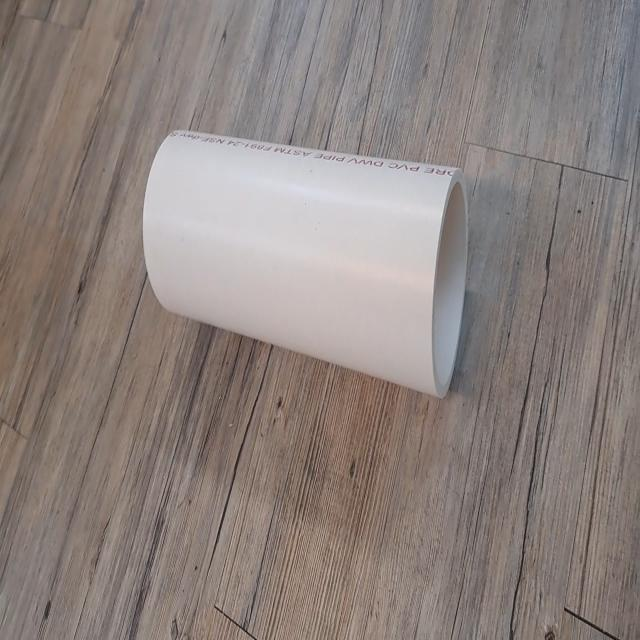CORAL: (138, 120, 476, 399)
